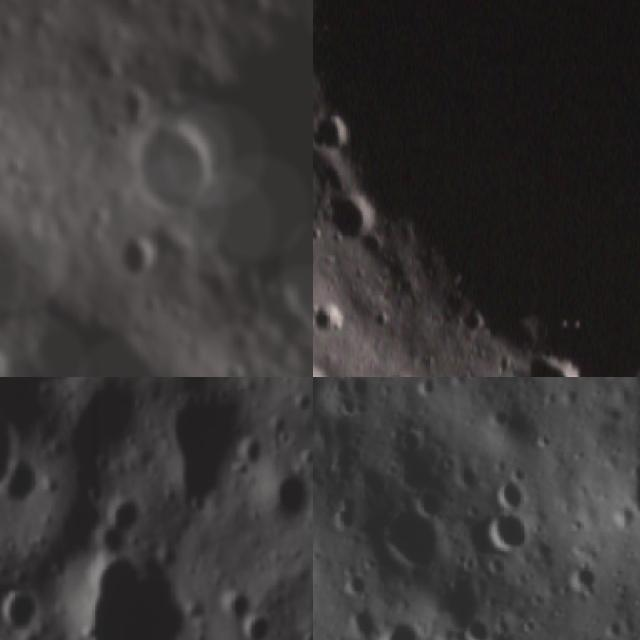crater: (160, 391, 253, 514), (128, 113, 228, 206), (78, 560, 189, 640), (372, 505, 457, 569), (94, 488, 151, 560), (0, 398, 32, 505), (313, 203, 381, 239), (0, 583, 44, 637), (313, 114, 355, 160), (119, 226, 156, 278), (491, 506, 527, 554), (381, 608, 432, 640), (211, 587, 251, 627), (234, 609, 279, 640), (494, 476, 538, 504), (313, 300, 344, 339), (14, 377, 82, 393), (394, 421, 427, 453), (313, 411, 341, 448), (525, 360, 582, 377), (104, 119, 126, 145), (0, 70, 23, 94), (221, 361, 255, 377), (53, 127, 68, 152), (15, 184, 29, 206)
